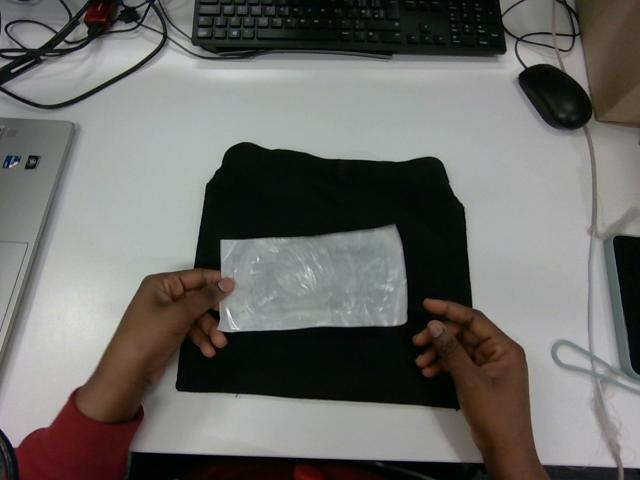gallipot: (219, 225, 406, 331)
